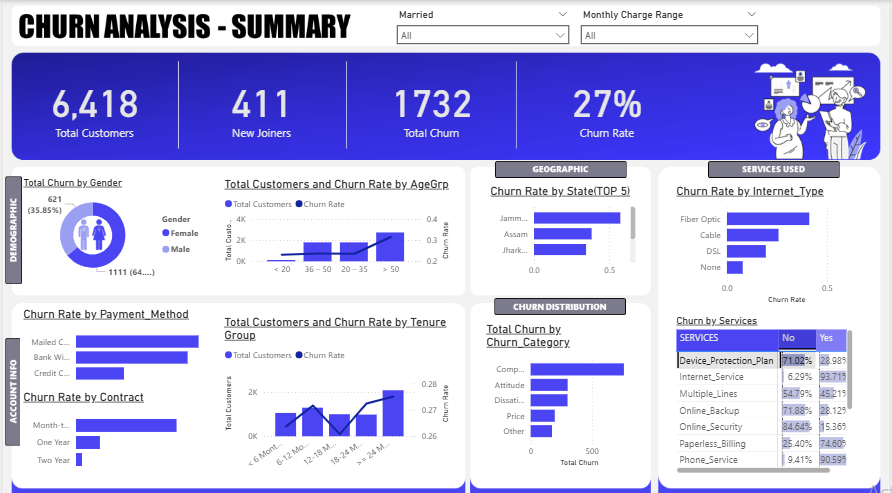

This screenshot's page, from the dashboard's own definition file:
{"tool":"powerbi","page":{"name":"Summary","canvas":[1280,720],"ordinal":0},"visuals":[{"type":"donutChart","fields":{"Category":["prod_Churn.Gender"],"Y":["tbl_Measures.Total Churn"]},"box":[24.6,255.9,273.3,151.8],"z":0},{"type":"image","box":[24.6,305.1,209.6,66.5],"z":1000},{"type":"card","fields":{"Values":["tbl_Measures.Total Customers"]},"box":[13,72.3,238.6,161.9],"z":2000},{"type":"card","fields":{"Values":["tbl_Measures.New Joiners"]},"box":[251.6,72.3,244.3,161.9],"z":3000},{"type":"card","fields":{"Values":["tbl_Measures.Total Churn"]},"box":[495.9,72.3,247.2,161.9],"z":4000},{"type":"card","fields":{"Values":["tbl_Measures.Churn Rate"]},"box":[743.1,72.3,260.2,161.9],"z":5000},{"type":"lineStackedColumnComboChart","fields":{"Category":["Mapping_AgeGrp.AgeGrp"],"Y":["tbl_Measures.Total Customers"],"Y2":["tbl_Measures.Churn Rate"]},"box":[315.2,255.9,335.4,151.8],"z":6000},{"type":"clusteredBarChart","fields":{"Category":["prod_Churn.Payment_Method"],"Y":["tbl_Measures.Churn Rate"]},"box":[24.6,443.9,273.3,120],"z":7000},{"type":"clusteredBarChart","fields":{"Category":["prod_Churn.Contract"],"Y":["tbl_Measures.Churn Rate"]},"box":[24.6,563.9,273.3,125.8],"z":8000},{"type":"lineStackedColumnComboChart","fields":{"Category":["Mapping_TenureGrp.Tenure Group"],"Y":["tbl_Measures.Total Customers"],"Y2":["tbl_Measures.Churn Rate"]},"box":[315.2,455.4,335.4,234.2],"z":9000},{"type":"clusteredBarChart","title":"Churn Rate by State(TOP 5)","fields":{"Category":["prod_Churn.State"],"Y":["tbl_Measures.Churn Rate"]},"box":[699.8,266,219.8,143.1],"z":10000},{"type":"clusteredBarChart","fields":{"Category":["prod_Churn.Churn_Category"],"Y":["tbl_Measures.Total Churn"]},"box":[694,465.5,225.5,214],"z":11000},{"type":"clusteredBarChart","fields":{"Category":["prod_Churn.Internet_Type"],"Y":["tbl_Measures.Churn Rate"]},"box":[968.7,266,264.6,177.8],"z":12000},{"type":"pivotTable","title":"Churn by Services","fields":{"Rows":["prod_services.services"],"Columns":["prod_services.status"],"Values":["Sum(prod_services.Churn Status)"]},"box":[968.7,455.4,264.6,234.2],"z":13000},{"type":"slicer","fields":{"Values":["prod_Churn.Monthly_ChargeStatus"]},"box":[825.5,8.7,276.1,63.6],"z":14000},{"type":"slicer","fields":{"Values":["prod_Churn.Married"]},"box":[559.5,8.7,268.9,63.6],"z":15000}]}

Visuals, with their boxes in screenshot pixels (x1, y1, x2, y2), scaled from the page's 1280x720 canvas onto the 892x493 screenshot:
donutChart - prod_Churn.Gender x tbl_Measures.Total Churn: (17, 175, 208, 279)
image: (17, 209, 163, 254)
card - tbl_Measures.Total Customers: (9, 50, 175, 160)
card - tbl_Measures.New Joiners: (175, 50, 346, 160)
card - tbl_Measures.Total Churn: (346, 50, 518, 160)
card - tbl_Measures.Churn Rate: (518, 50, 699, 160)
lineStackedColumnComboChart - Mapping_AgeGrp.AgeGrp x tbl_Measures.Total Customers: (220, 175, 453, 279)
clusteredBarChart - prod_Churn.Payment_Method x tbl_Measures.Churn Rate: (17, 304, 208, 386)
clusteredBarChart - prod_Churn.Contract x tbl_Measures.Churn Rate: (17, 386, 208, 472)
lineStackedColumnComboChart - Mapping_TenureGrp.Tenure Group x tbl_Measures.Total Customers: (220, 312, 453, 472)
"Churn Rate by State(TOP 5)" clusteredBarChart: (488, 182, 641, 280)
clusteredBarChart - prod_Churn.Churn_Category x tbl_Measures.Total Churn: (484, 319, 641, 465)
clusteredBarChart - prod_Churn.Internet_Type x tbl_Measures.Churn Rate: (675, 182, 859, 304)
"Churn by Services" pivotTable: (675, 312, 859, 472)
slicer - prod_Churn.Monthly_ChargeStatus: (575, 6, 768, 50)
slicer - prod_Churn.Married: (390, 6, 577, 50)
